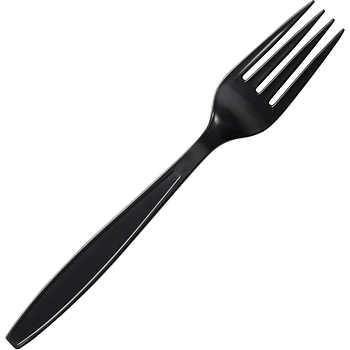Fork: (5, 0, 345, 349)
